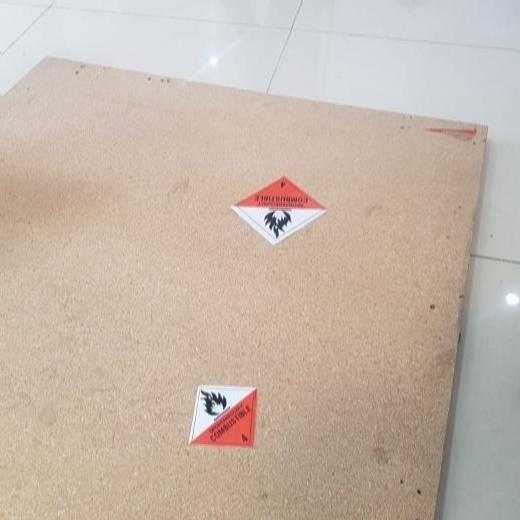spontaneously-combustible: (234, 172, 326, 246), (187, 385, 255, 447)
